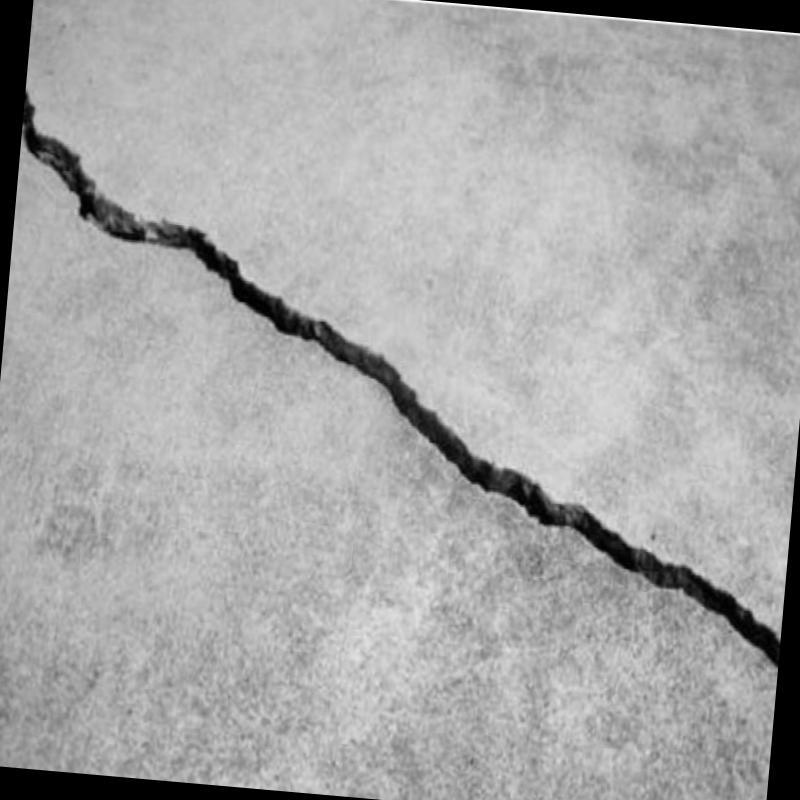pothole: (22, 92, 779, 666)
